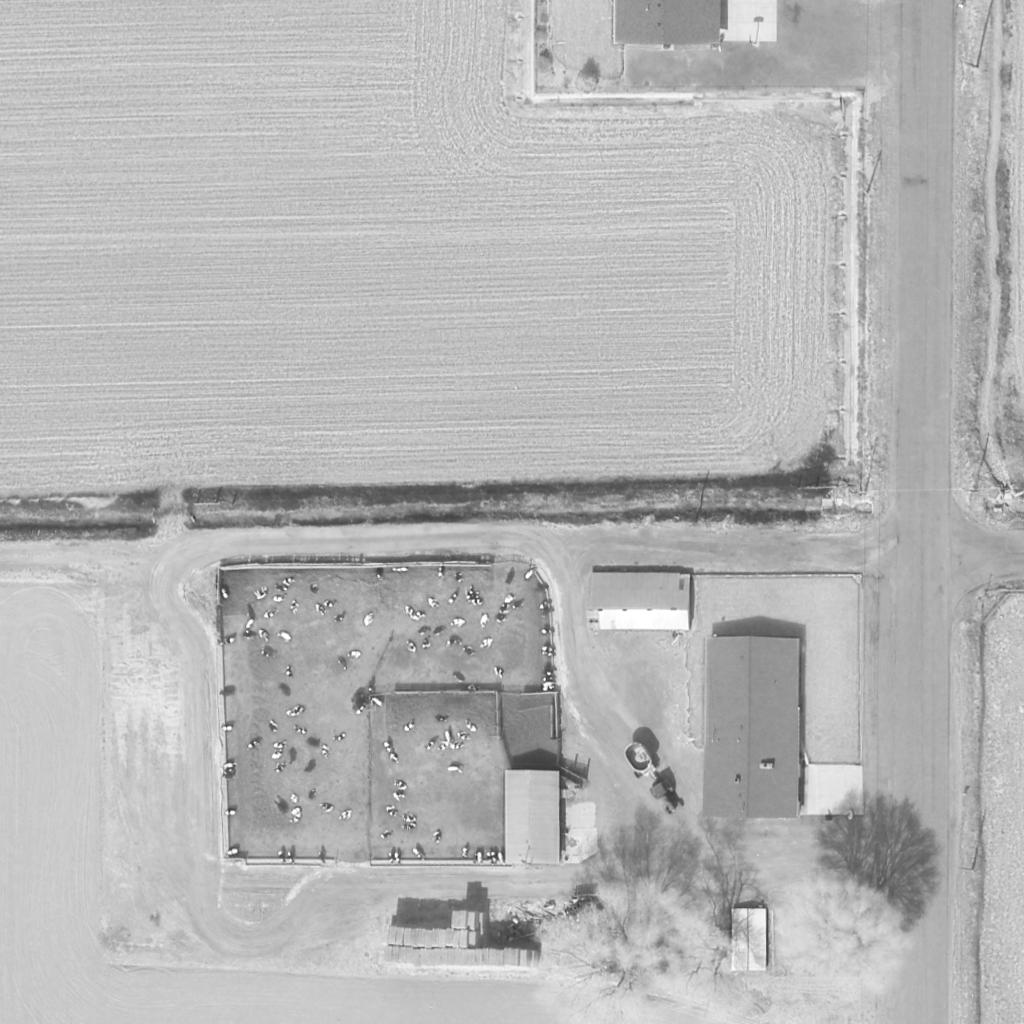vehicle: (646, 778, 688, 818)
